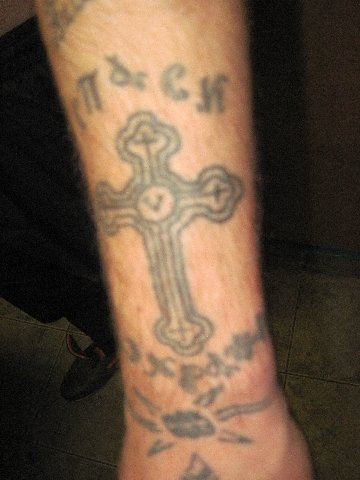tatu9_krest: (90, 113, 253, 351)
